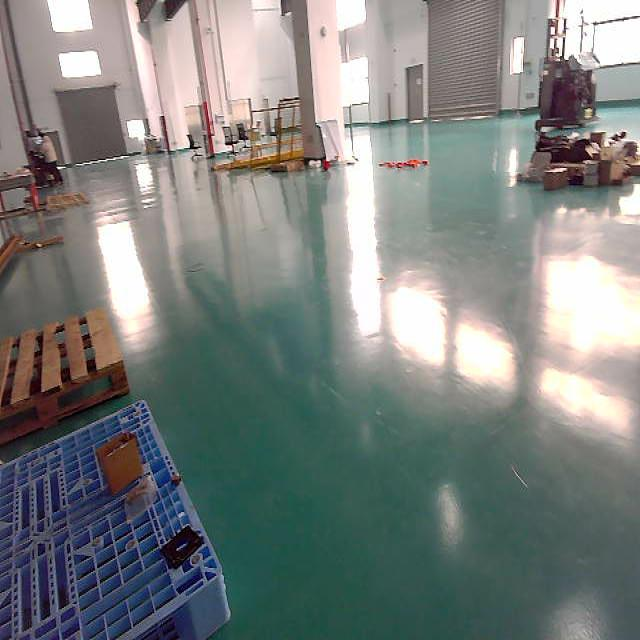euro: (0, 308, 131, 445)
